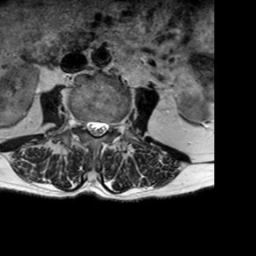CCS_stenosis: (93, 112, 100, 144)
LFS_normal: (108, 113, 117, 138)
LLS_normal: (100, 112, 109, 140)
RFS_normal: (76, 111, 85, 136)
RLS_normal: (85, 113, 93, 139)
